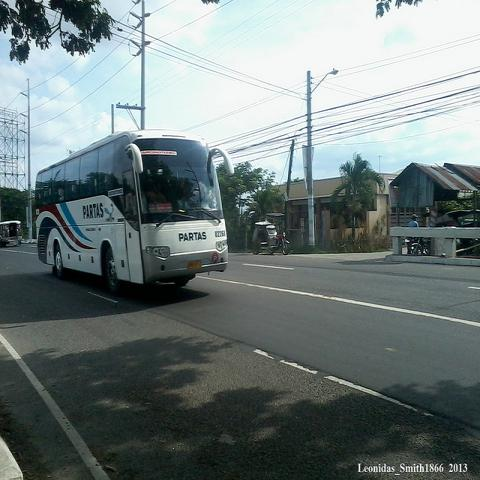bus: (35, 129, 234, 298)
car: (442, 215, 453, 222)
motorcycle: (275, 231, 290, 255), (412, 237, 430, 256), (407, 237, 417, 256)
